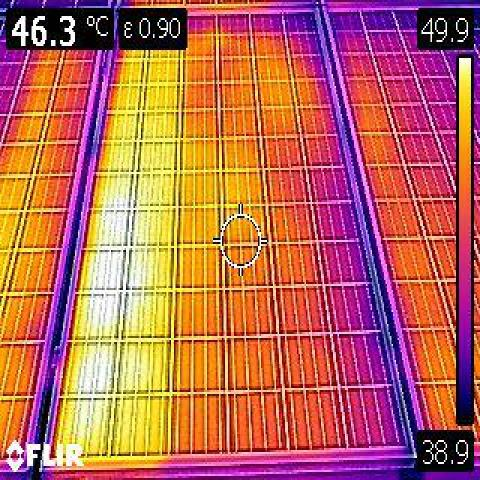fault: (43, 4, 184, 466)
